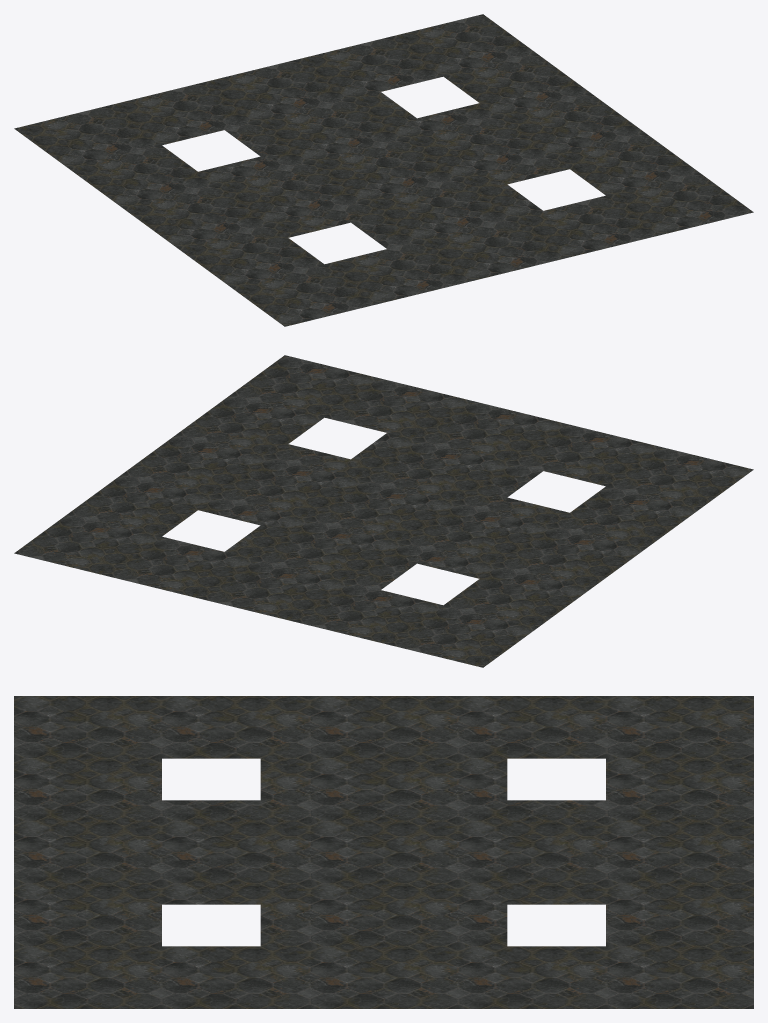
The model's file is floor.obj.
3 views of the same model, one above another, from view 1: azimuth 30°, elevation 25°; view 2: azimuth 150°, elevation 25°; view 3: azimuth 270°, elevation 25° (orthographic). The views are drawn at different scales.
Visible parts, largest first — view 1: Floor_Plane; view 2: Floor_Plane; view 3: Floor_Plane.
Boxes of the visible parts, x1=… form: Floor_Plane: x1=14, y1=14, x2=753, y2=326; Floor_Plane: x1=14, y1=355, x2=753, y2=667; Floor_Plane: x1=14, y1=696, x2=753, y2=1008.
Bounding box in the file's own units: 30 × 0 × 30.
1 material, 1 textured.
